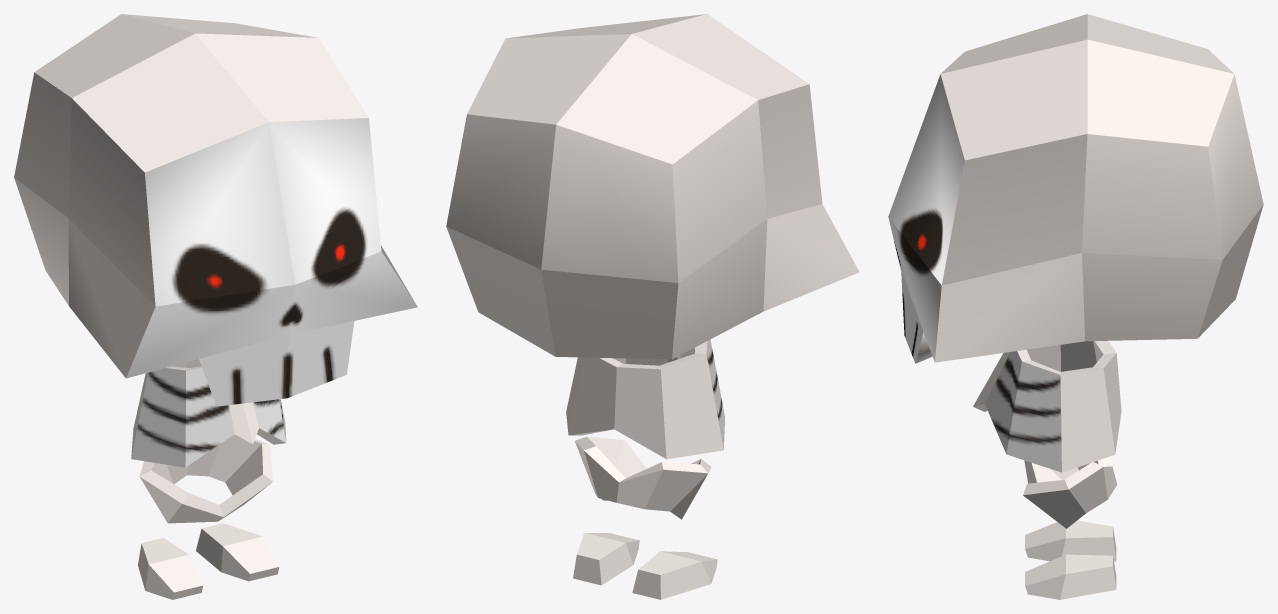
Rendered from Skeleton_Color.fbx.
3 views of the same model, side by side, from view 1: azimuth 30°, elevation 25°; view 2: azimuth 150°, elevation 25°; view 3: azimuth 270°, elevation 25° (orthographic). The views are drawn at different scales.
Parts seen in each view (by area): view 1: Esqueleto; view 2: Esqueleto; view 3: Esqueleto.
Boxes of the visible parts, x1=… form: Esqueleto: x1=14, y1=14, x2=417, y2=599; Esqueleto: x1=446, y1=14, x2=859, y2=599; Esqueleto: x1=888, y1=14, x2=1263, y2=599.
Bounding box in the file's own units: 8.56 × 14.89 × 9.57.
